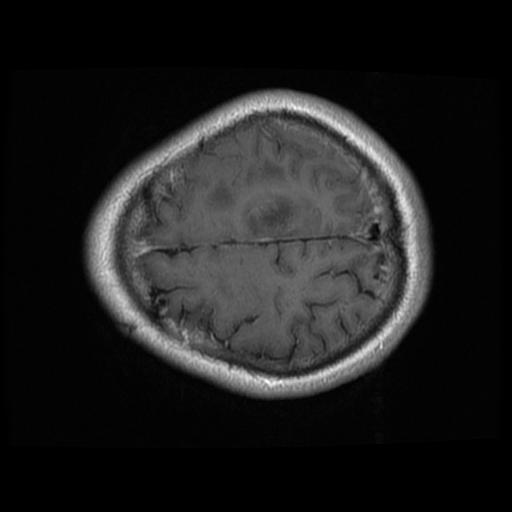glioma: (241, 195, 299, 241)
